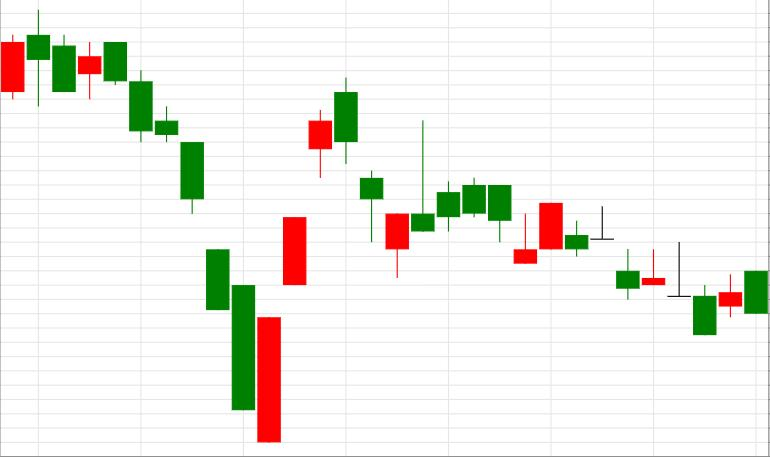three_white_soldiers_rise: (104, 42, 332, 442)
